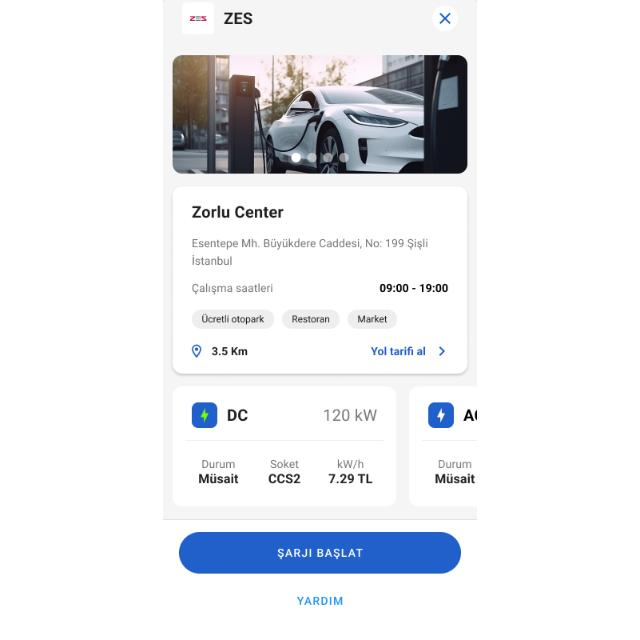QLabel: (190, 237, 430, 249), (189, 202, 287, 222), (274, 546, 366, 560), (378, 280, 450, 296), (189, 283, 275, 295), (323, 408, 379, 424), (369, 345, 428, 359), (294, 595, 344, 609), (429, 471, 476, 485), (328, 472, 374, 486), (189, 254, 235, 266), (209, 346, 249, 358), (198, 473, 238, 485), (436, 458, 474, 470), (199, 459, 235, 471), (223, 11, 253, 25), (225, 408, 248, 424), (267, 474, 301, 484), (336, 458, 364, 470), (268, 459, 300, 468), (461, 408, 477, 422)
VBtn: (180, 532, 462, 574)
VCard: (173, 186, 469, 374), (172, 387, 398, 508), (410, 385, 478, 507)
VCarousel: (172, 56, 468, 174)
VChip: (191, 309, 275, 329), (282, 310, 340, 328), (348, 310, 398, 328)
VDivider: (182, 437, 386, 443), (419, 438, 477, 444)
VFooter: (163, 520, 477, 640)
VIcon: (432, 8, 458, 30), (188, 344, 204, 361), (434, 346, 448, 358)
VImg: (184, 5, 216, 32), (192, 402, 218, 428), (428, 402, 454, 428)
